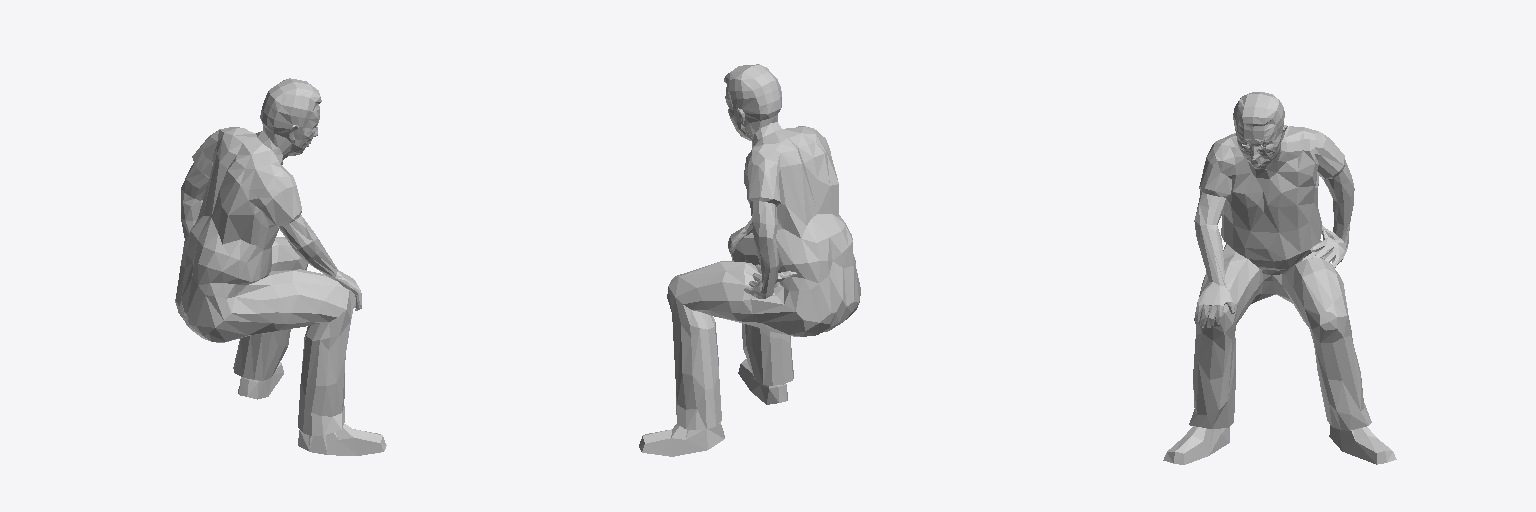
File: human.obj
3 renders of one model, left to right at view 1: azimuth 30°, elevation 25°; view 2: azimuth 150°, elevation 25°; view 3: azimuth 270°, elevation 25°, orthographic.
Parts seen in each view (by area): view 1: CMan0001_Se; view 2: CMan0001_Se; view 3: CMan0001_Se.
Boxes of the visible parts, x1=… form: CMan0001_Se: x1=175, y1=78, x2=386, y2=455; CMan0001_Se: x1=639, y1=64, x2=860, y2=456; CMan0001_Se: x1=1163, y1=92, x2=1396, y2=464.
Bounding box in the file's own units: 16.16 × 34.88 × 21.04.